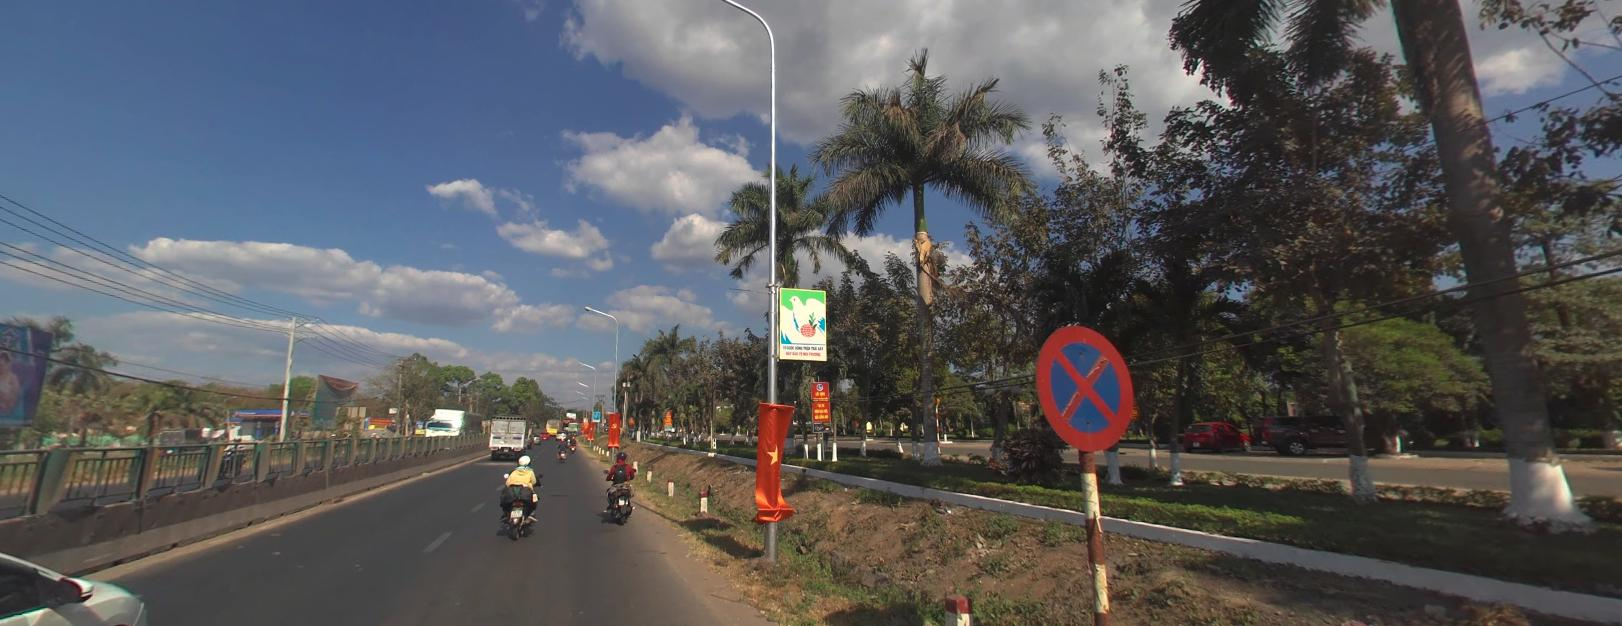Cam dung va do: (1037, 322, 1136, 449)
